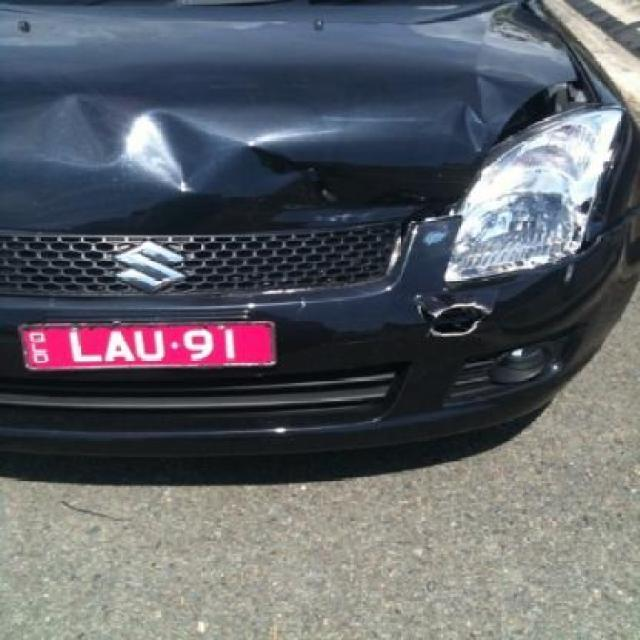minor: (475, 35, 577, 146), (0, 95, 142, 169)
moderate: (71, 111, 291, 208)
